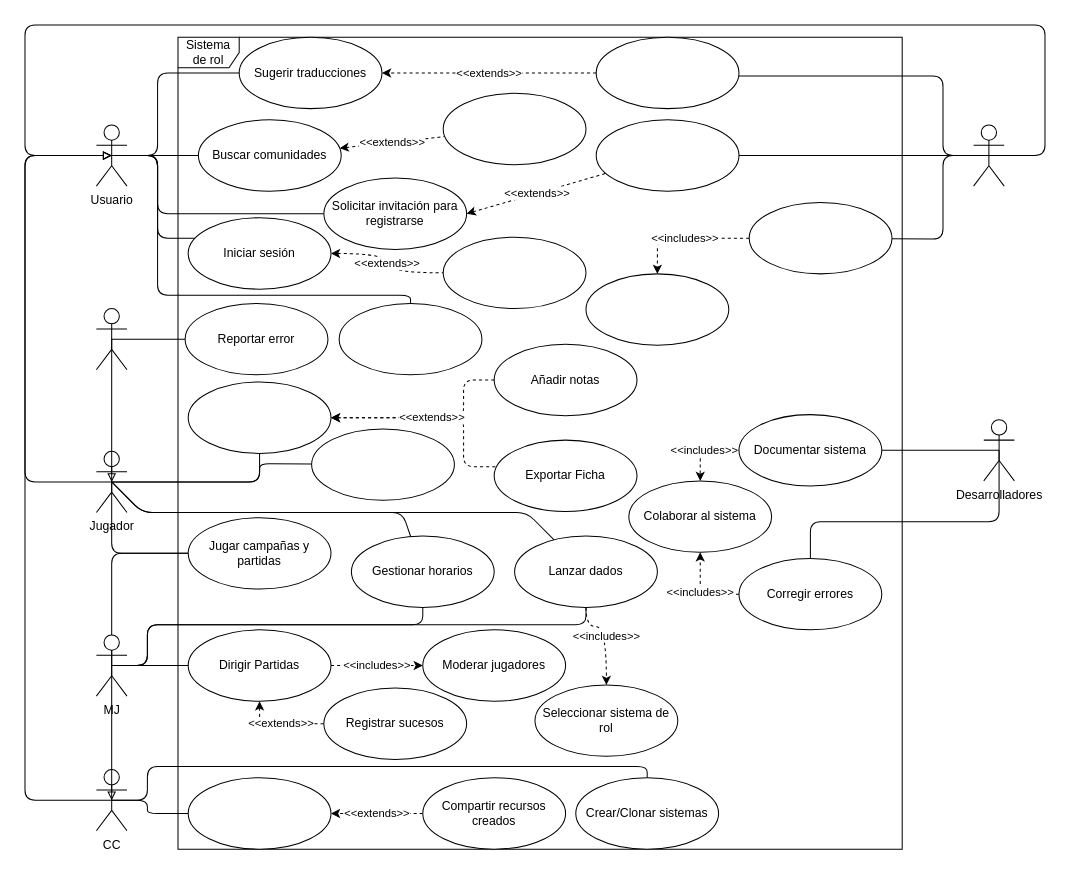
This 1071x870 diagram has some shape labels left out. Each missing label, with the centre of its shape:
Aceptar/Rechazar envío de invitación: (667,155)
Aceptar/Rechazar traducción: (667,72)
Cerrar sesión: (514,272)
Crear Ficha: (259,417)
Deshacer traducciones aceptadas: (820,237)
Diseñar Contenido: (259,813)
Gestionar comunidad: (382,464)
Moderador: (988,155)
Personalizar perfil: (410,338)
Probador: (111,339)
Seleccionar versión oficial visible: (657,309)
Unirse a comunidades: (514,128)
